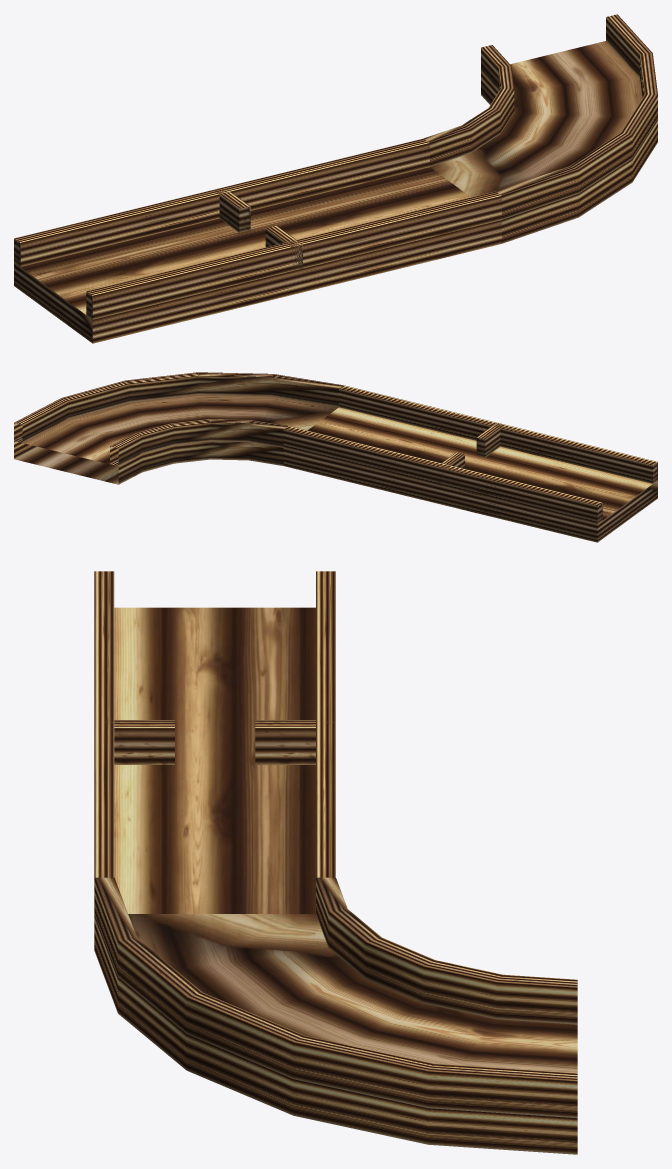
File: N - Outside Window Begin.obj
The picture shows the model from 3 angles, top to bottom: view 1: azimuth 30°, elevation 25°; view 2: azimuth 150°, elevation 25°; view 3: azimuth 270°, elevation 25°; orthographic projection. The views are drawn at different scales.
Visible parts, largest first — view 1: polySurface10; view 2: polySurface10; view 3: polySurface10.
Boxes of the visible parts, x1=… form: polySurface10: x1=14, y1=14, x2=657, y2=343; polySurface10: x1=14, y1=372, x2=657, y2=542; polySurface10: x1=94, y1=571, x2=577, y2=1154.
Bounding box in the file's own units: 2100 × 140 × 840.
